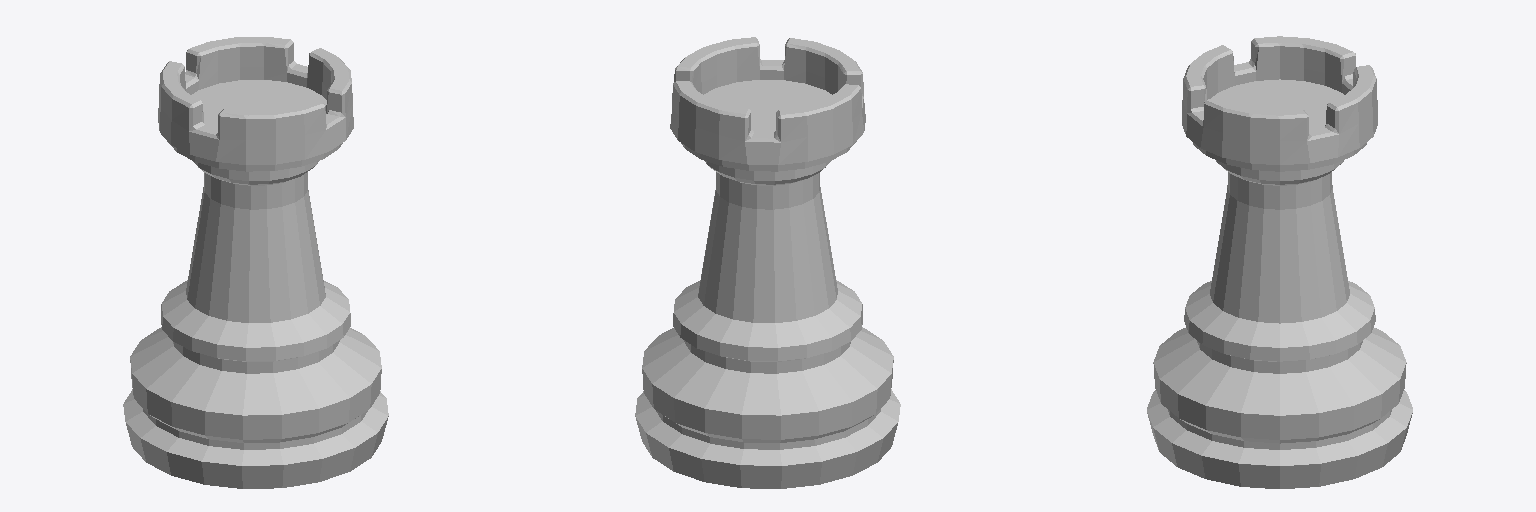
Rendered from whiteRook.obj.
The picture shows the model from 3 angles: view 1: azimuth 30°, elevation 25°; view 2: azimuth 150°, elevation 25°; view 3: azimuth 270°, elevation 25°; orthographic projection.
Visible parts, largest first — view 1: pCylinder12; view 2: pCylinder12; view 3: pCylinder12.
Boxes of the visible parts, x1,y1,x2,y2 form: pCylinder12: [123, 37, 388, 488]; pCylinder12: [635, 37, 900, 488]; pCylinder12: [1147, 36, 1412, 488].
Bounding box in the file's own units: 0.9482 × 1.41 × 0.9482.